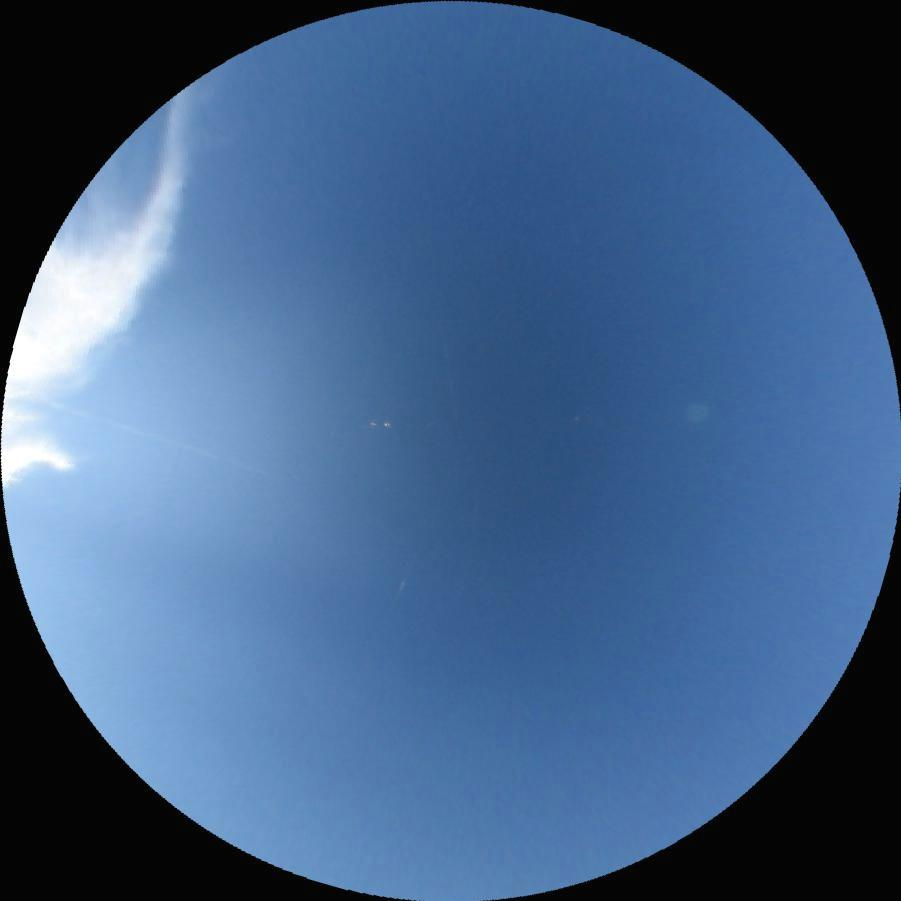parasite: (42, 396, 251, 471), (391, 566, 410, 606)
